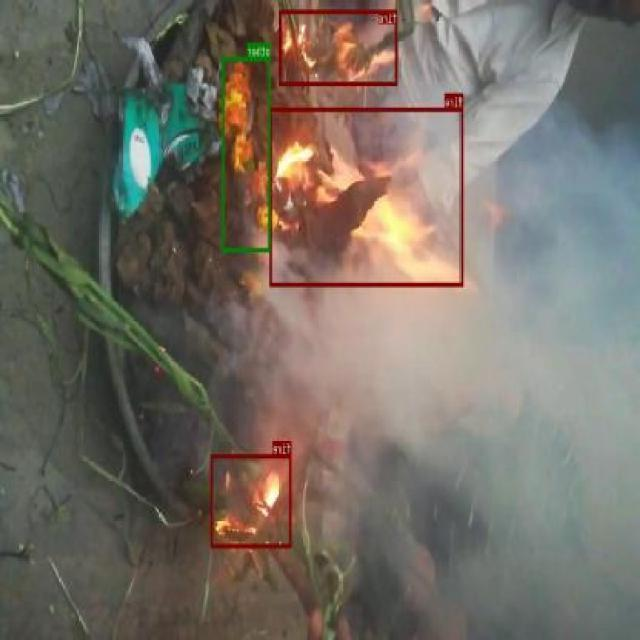Fire: (270, 106, 464, 286), (280, 9, 398, 85), (210, 453, 292, 547)
